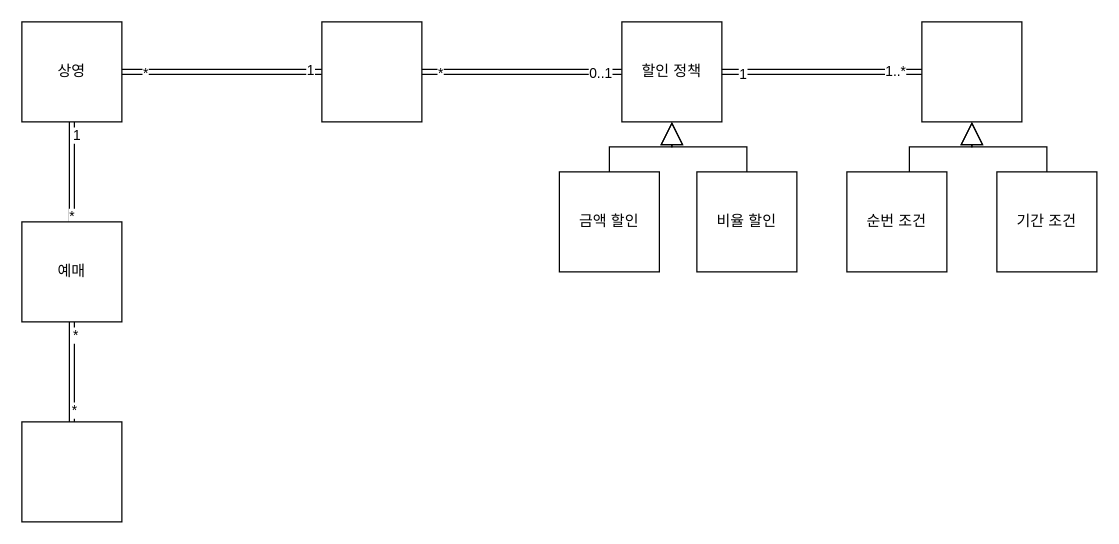
This 1119x544 diagram has some shape labels left out. The box of each missing label's shape, as (x1, y1, x2, y2) in pixels:
고객: (21, 421, 122, 522)
영화: (321, 21, 422, 122)
할인 조건: (921, 21, 1022, 122)
